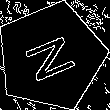N_NE: (19, 28, 83, 85)
